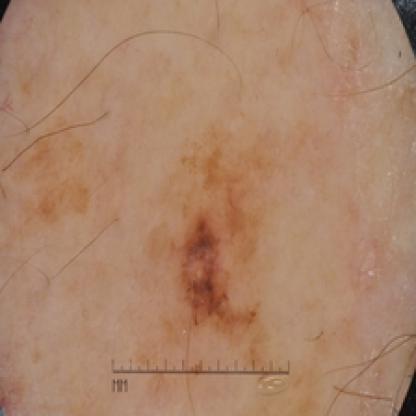malignant: (166, 154, 254, 342)
